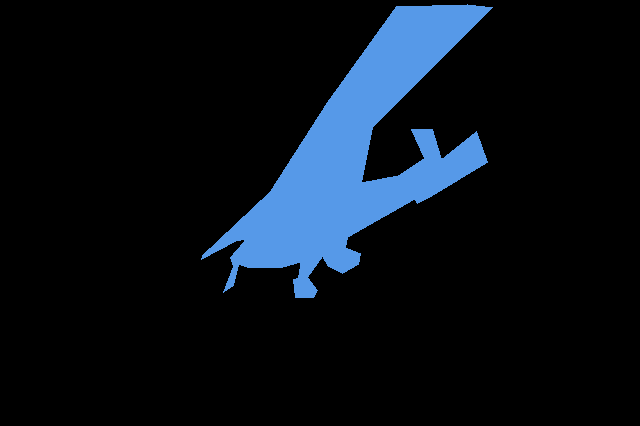Airplane: (201, 4, 492, 298)
